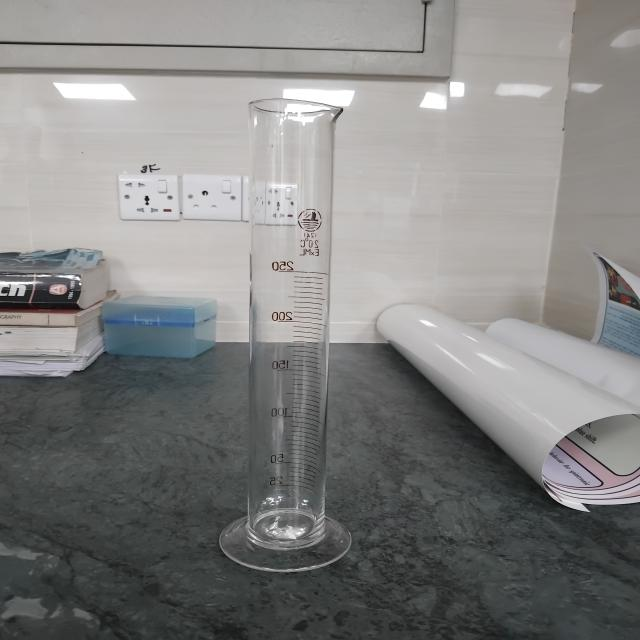Measuring_Cylinder: (138, 33, 418, 587)
